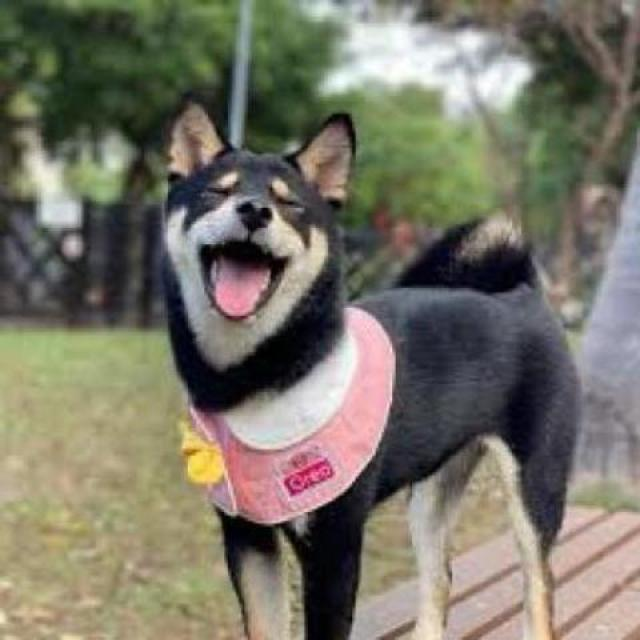dog: (139, 71, 377, 378)
